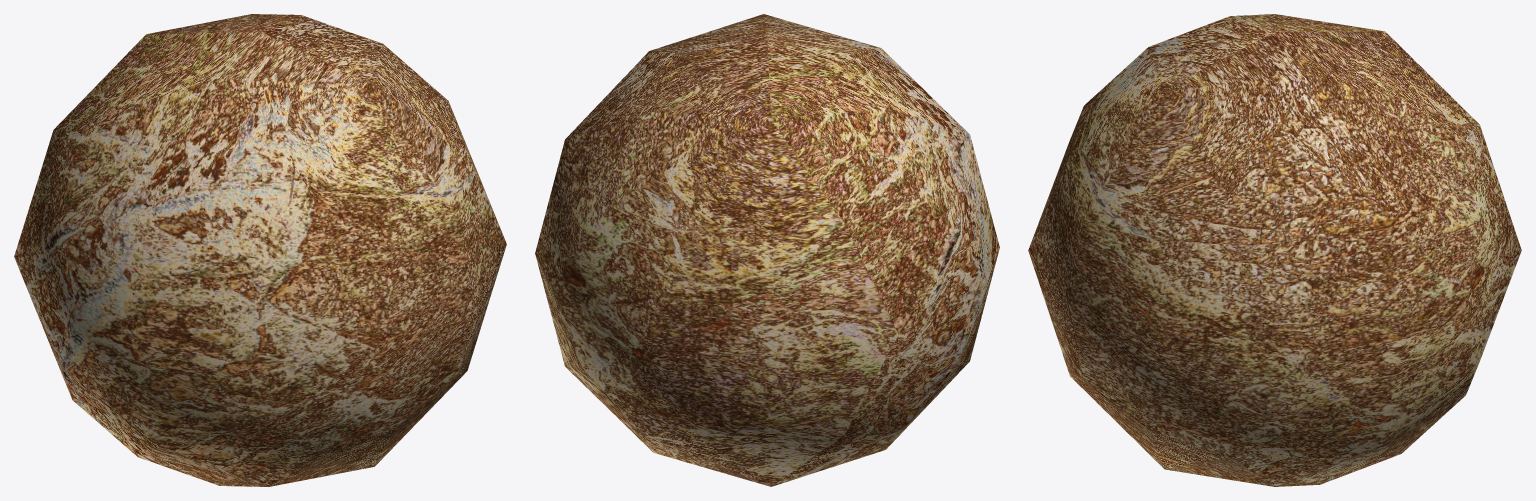
The model's file is iwa.fbx.
3 views of the same model, side by side, from view 1: azimuth 30°, elevation 25°; view 2: azimuth 150°, elevation 25°; view 3: azimuth 270°, elevation 25° (orthographic). The views are drawn at different scales.
Visible parts, largest first — view 1: iwa; view 2: iwa; view 3: iwa.
Part boxes in pixels (x1,y1,x2,y2): iwa: (14, 14, 506, 486); iwa: (535, 14, 999, 486); iwa: (1028, 14, 1521, 486).
Bounding box in the file's own units: 17.17 × 17.52 × 17.95.
1 material, 1 textured.
